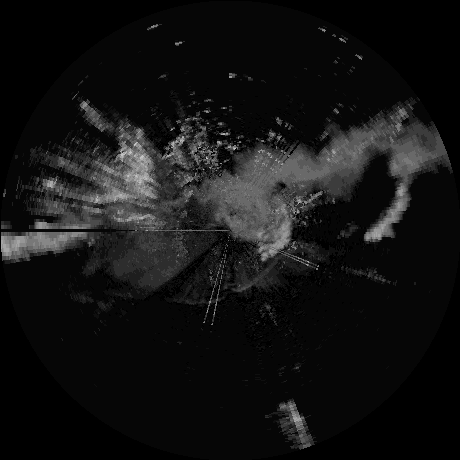frontgust: (230, 252, 290, 291), (174, 296, 225, 306)
